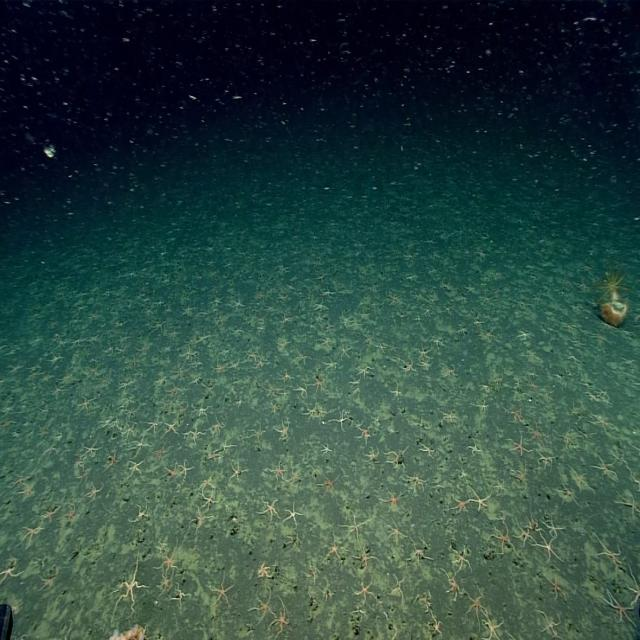brittle-stars: (106, 550, 152, 628), (459, 583, 493, 640), (593, 521, 624, 583), (334, 509, 374, 554), (603, 588, 636, 640), (341, 577, 380, 616), (242, 586, 277, 628), (204, 572, 237, 616), (489, 524, 517, 573), (551, 425, 586, 462), (528, 530, 560, 570), (268, 590, 293, 640), (402, 540, 436, 575), (252, 496, 282, 535), (380, 441, 410, 480), (347, 547, 379, 583), (552, 477, 580, 518), (591, 449, 617, 493), (566, 458, 594, 498), (155, 531, 180, 575), (377, 522, 409, 556), (441, 568, 466, 611), (34, 564, 62, 602), (467, 485, 493, 525), (317, 468, 340, 510), (323, 528, 342, 578), (587, 406, 614, 441), (611, 490, 640, 522), (509, 515, 534, 552), (541, 573, 569, 606), (480, 610, 510, 640), (535, 612, 567, 640), (522, 421, 550, 453), (203, 414, 230, 446), (124, 433, 153, 462), (16, 521, 44, 551), (217, 431, 244, 462), (502, 434, 534, 460), (18, 476, 42, 510), (378, 487, 406, 516), (448, 547, 477, 575), (249, 559, 276, 589), (557, 347, 588, 373), (386, 572, 406, 612), (538, 513, 566, 541), (447, 492, 470, 526), (328, 404, 350, 439), (171, 579, 191, 617), (186, 509, 213, 537), (268, 418, 294, 447), (243, 418, 268, 448), (412, 588, 437, 618), (100, 445, 122, 478), (266, 461, 290, 491), (627, 554, 640, 609), (0, 556, 21, 590), (504, 401, 527, 432), (281, 502, 303, 534), (415, 438, 438, 468), (156, 569, 176, 603), (301, 557, 322, 589), (488, 364, 509, 396), (300, 397, 318, 434), (157, 462, 179, 492), (508, 462, 530, 492), (77, 434, 104, 458), (148, 442, 172, 469), (171, 357, 191, 389), (181, 424, 207, 448), (128, 504, 150, 532), (462, 435, 484, 463), (73, 393, 97, 418), (116, 388, 142, 411), (517, 345, 543, 368), (314, 437, 336, 464), (384, 379, 405, 407), (468, 395, 488, 424), (196, 493, 220, 517), (190, 400, 212, 426), (400, 356, 422, 382), (178, 342, 200, 368), (312, 300, 338, 322), (227, 461, 248, 488), (285, 465, 305, 493), (178, 458, 196, 489), (143, 412, 162, 441), (610, 439, 629, 468), (405, 471, 427, 496), (58, 503, 79, 529), (197, 472, 215, 502), (292, 376, 310, 406), (511, 323, 534, 346), (283, 530, 305, 554), (324, 278, 346, 302), (126, 460, 147, 485), (427, 614, 448, 639), (86, 481, 108, 504), (42, 498, 60, 526), (522, 515, 546, 536), (491, 472, 509, 500), (438, 408, 459, 432), (113, 376, 137, 397), (291, 344, 311, 369), (307, 372, 326, 398), (258, 382, 284, 401), (441, 360, 458, 389), (341, 346, 364, 367), (319, 582, 336, 610), (160, 421, 181, 443), (535, 450, 556, 472), (363, 445, 382, 469), (427, 479, 449, 499), (43, 441, 62, 464), (8, 467, 26, 491), (355, 421, 370, 449), (353, 379, 374, 399), (271, 334, 292, 354), (201, 381, 221, 402), (193, 326, 213, 347), (163, 383, 188, 399), (328, 358, 348, 378), (188, 356, 206, 378), (413, 342, 436, 359), (230, 393, 247, 416), (228, 352, 243, 378), (58, 624, 82, 640), (75, 465, 91, 489), (242, 346, 262, 365), (210, 362, 230, 381), (121, 419, 139, 440), (414, 356, 435, 374), (315, 399, 330, 424), (95, 410, 112, 432), (124, 400, 140, 423), (524, 375, 543, 394), (359, 366, 379, 384), (252, 355, 269, 376), (194, 373, 210, 395), (208, 448, 223, 471), (175, 402, 194, 420), (587, 385, 601, 409), (519, 365, 540, 381), (374, 338, 389, 360), (598, 384, 613, 406), (239, 296, 252, 321), (266, 400, 283, 418), (387, 339, 403, 358), (631, 458, 640, 491), (352, 414, 368, 431), (495, 512, 511, 529), (277, 369, 294, 384), (503, 625, 520, 640), (156, 371, 168, 392), (327, 336, 341, 354), (38, 402, 51, 421), (457, 464, 468, 486), (392, 352, 408, 367), (216, 346, 232, 361), (52, 383, 66, 400), (74, 453, 86, 472), (479, 380, 491, 397), (111, 414, 122, 432)
